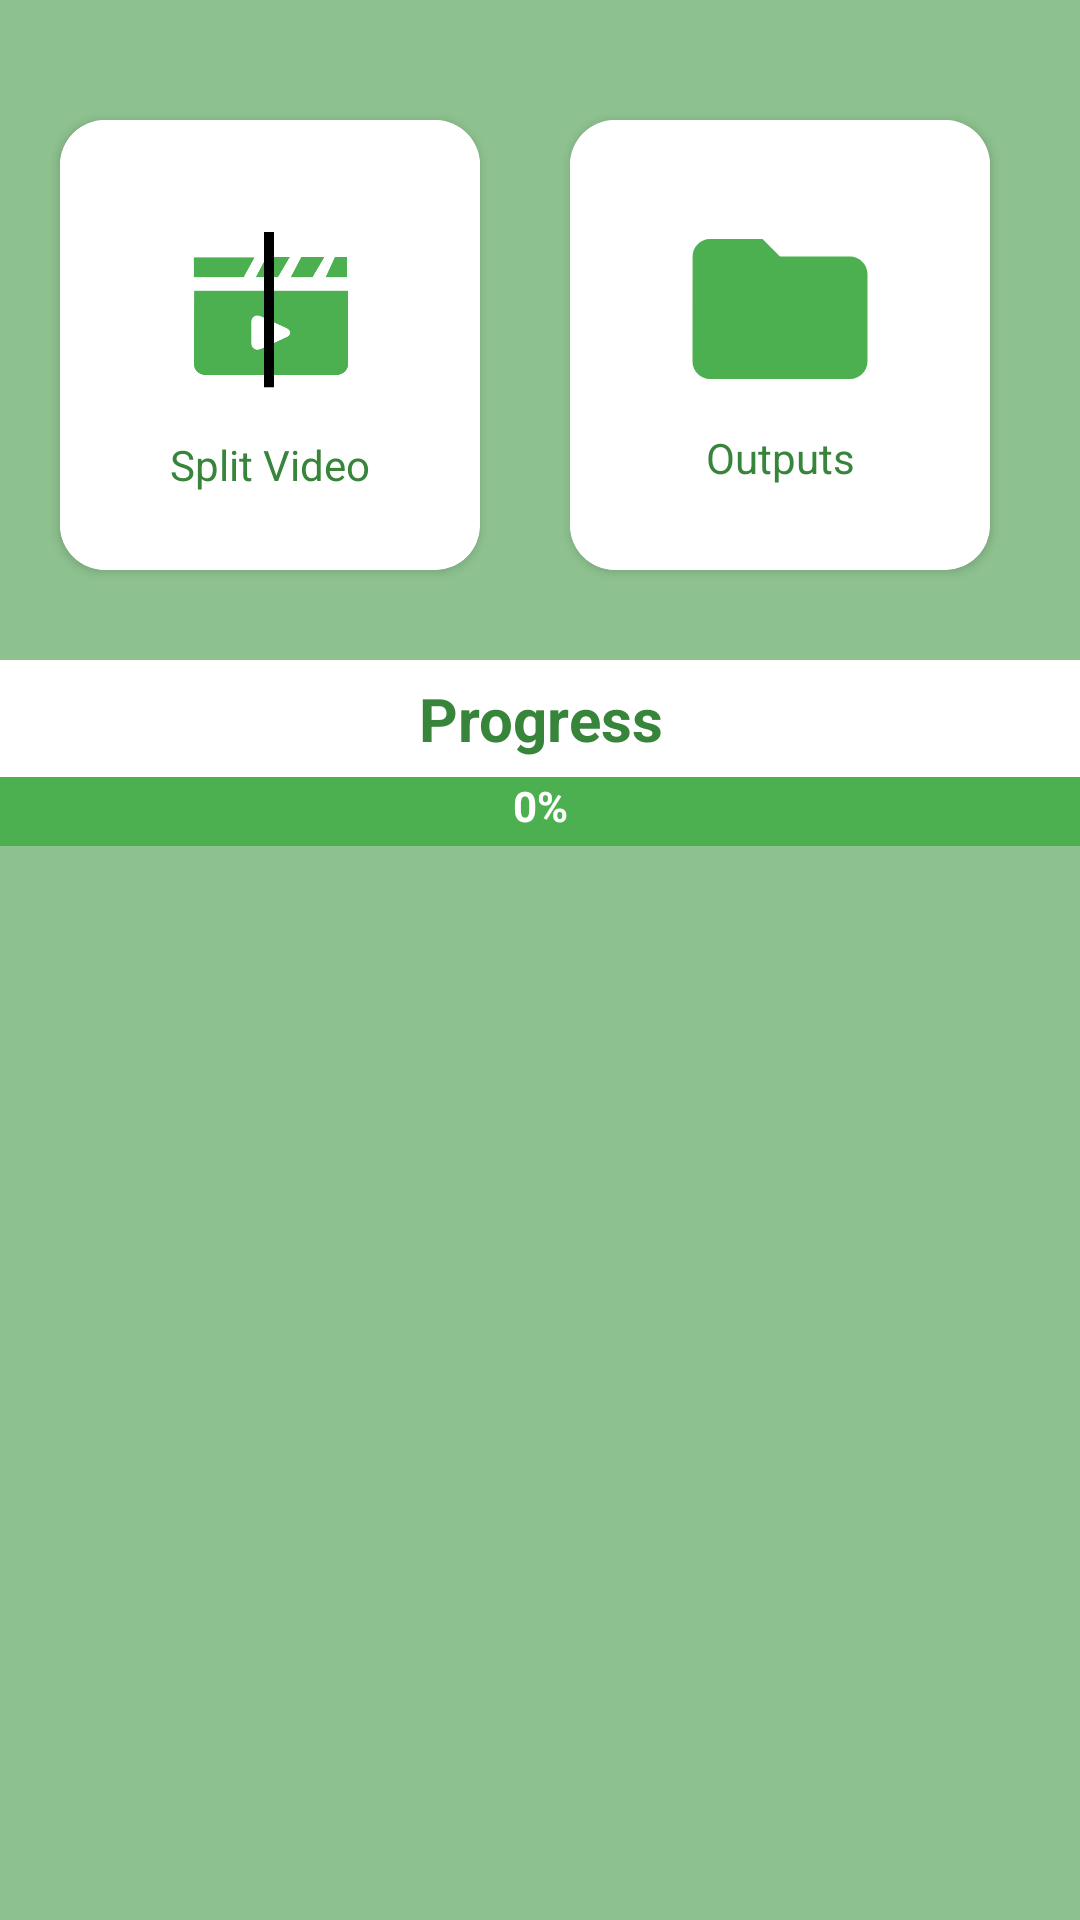

Where icons sit on this 1080 x 1920 app screen, as (x1, y1, x2, y2):
folder: (692, 239, 868, 379)
